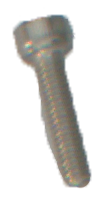M4-20mm: (8, 10, 99, 194)
